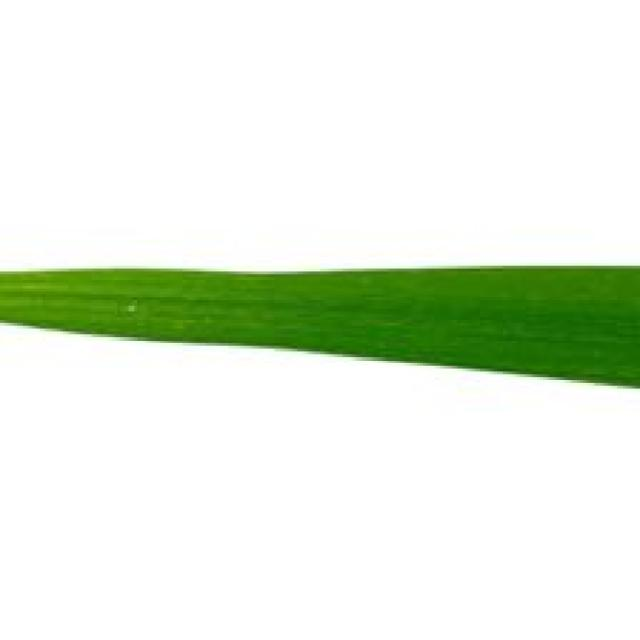Rice___Healthy_Rice_Plant: (0, 265, 637, 390)
